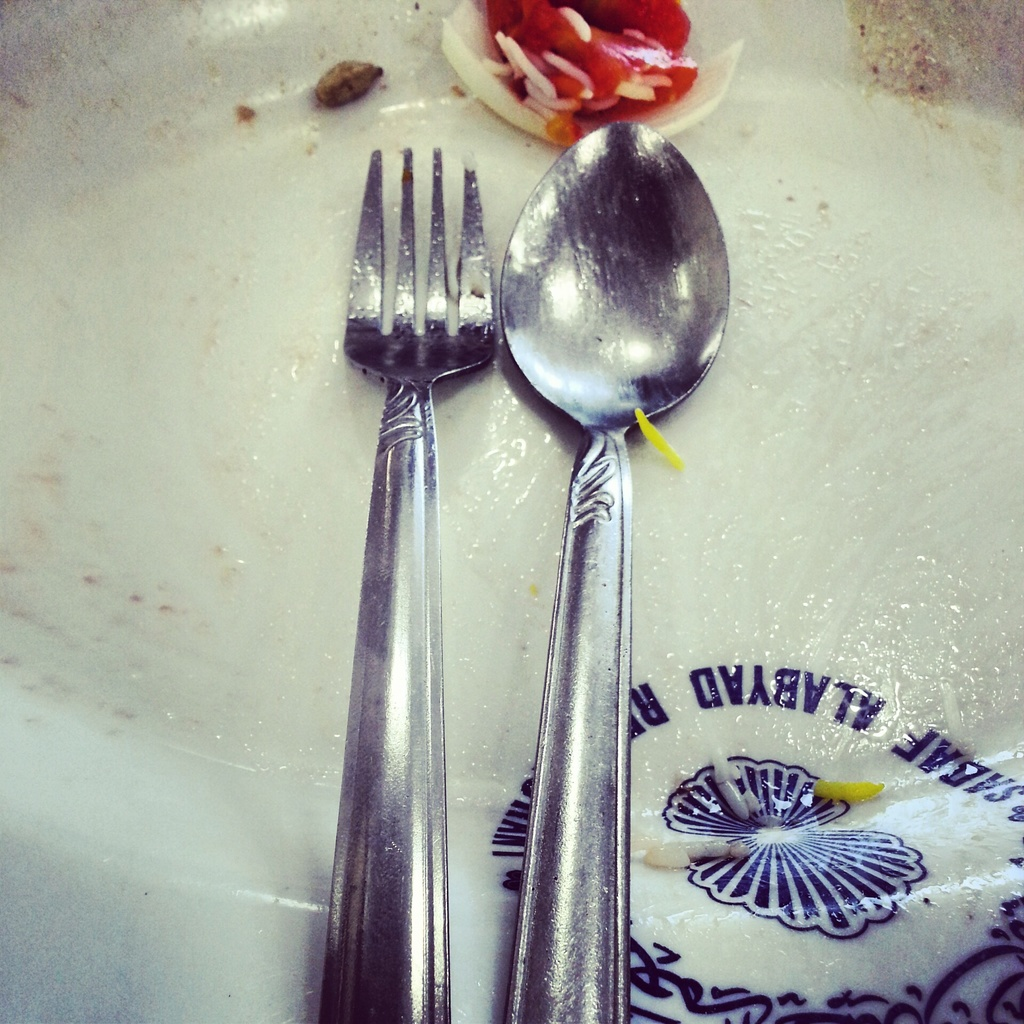fork: (317, 146, 496, 1023)
